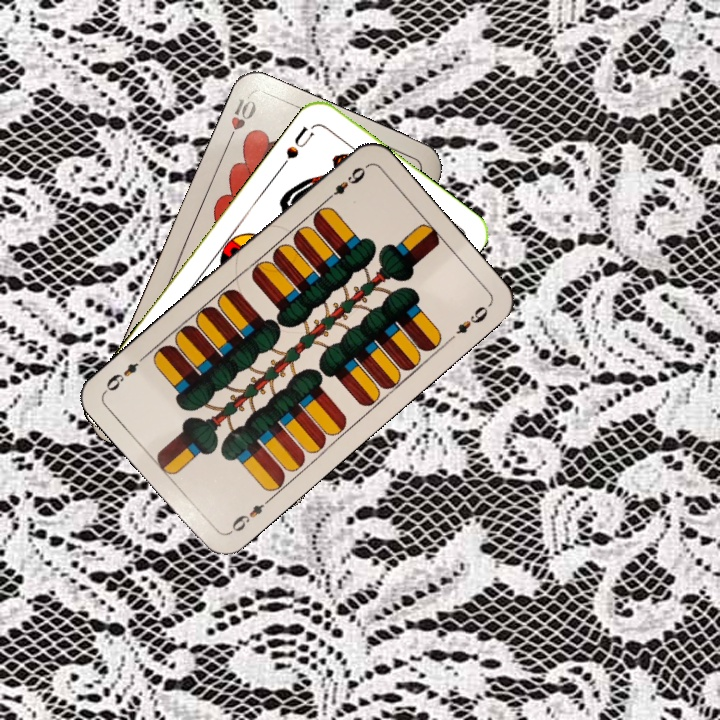E9: (225, 493, 274, 537), (320, 162, 370, 205)
H10: (221, 92, 259, 149)
SU: (276, 122, 317, 171)
